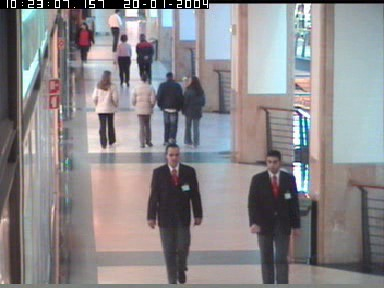person: (147, 145, 201, 285), (248, 147, 301, 285), (92, 70, 119, 148), (156, 72, 183, 148), (131, 73, 156, 146), (179, 77, 205, 147), (112, 33, 131, 86), (137, 34, 155, 86), (72, 21, 93, 61), (108, 9, 124, 52)
